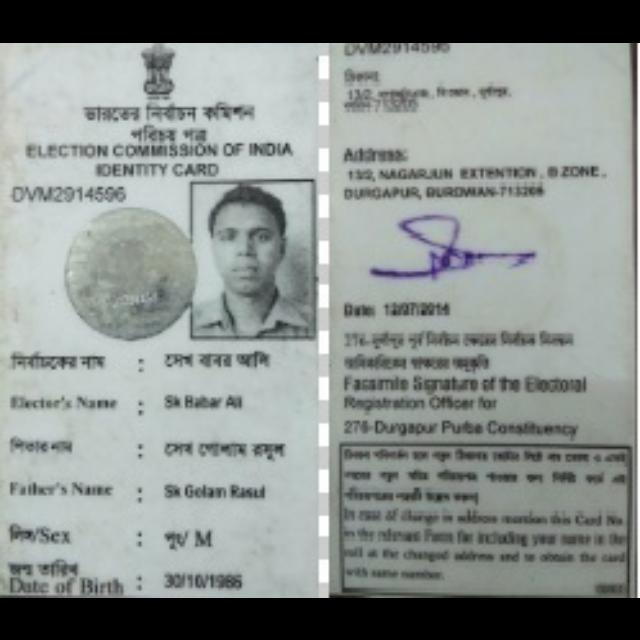voter_id: (3, 42, 320, 598)
